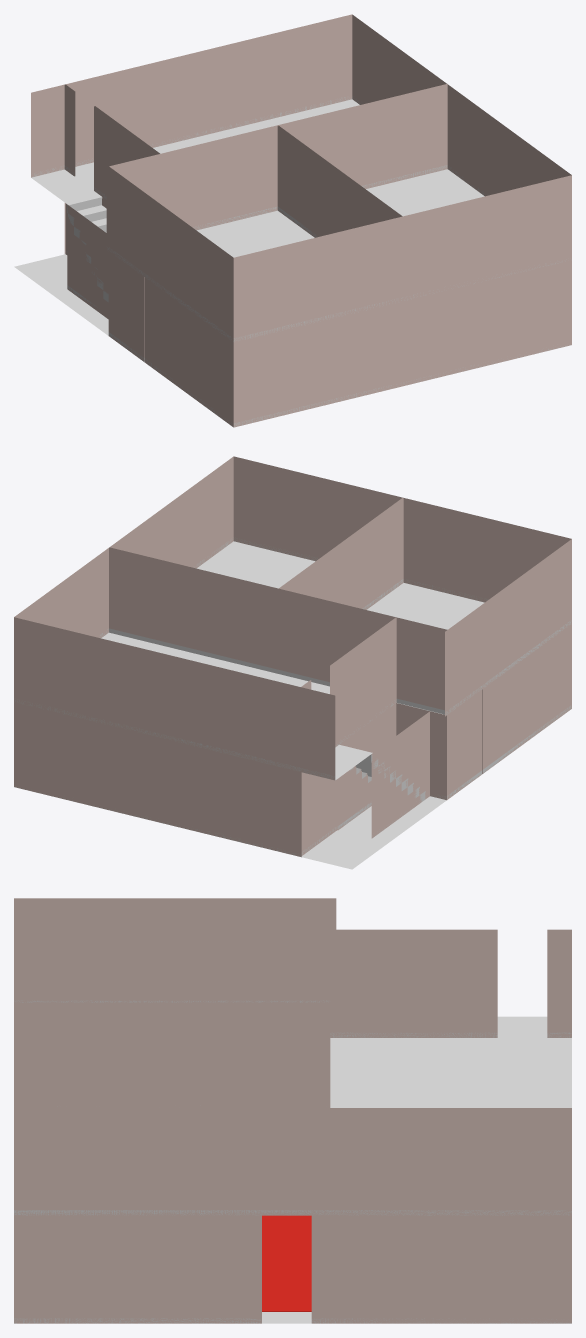
File: House_FIxed.fbx
3 renders of one model, top to bottom at view 1: azimuth 30°, elevation 25°; view 2: azimuth 150°, elevation 25°; view 3: azimuth 270°, elevation 25°, orthographic. The views are drawn at different scales.
Parts seen in each view (by area): view 1: Stairs.001; view 2: Stairs.001; view 3: Stairs.001.
Part boxes in pixels (bbox=[...]): Stairs.001: bbox=[14, 14, 571, 427]; Stairs.001: bbox=[14, 456, 571, 869]; Stairs.001: bbox=[14, 898, 571, 1323].
Size of the model in its own units: 1000 by 480 by 1125.
